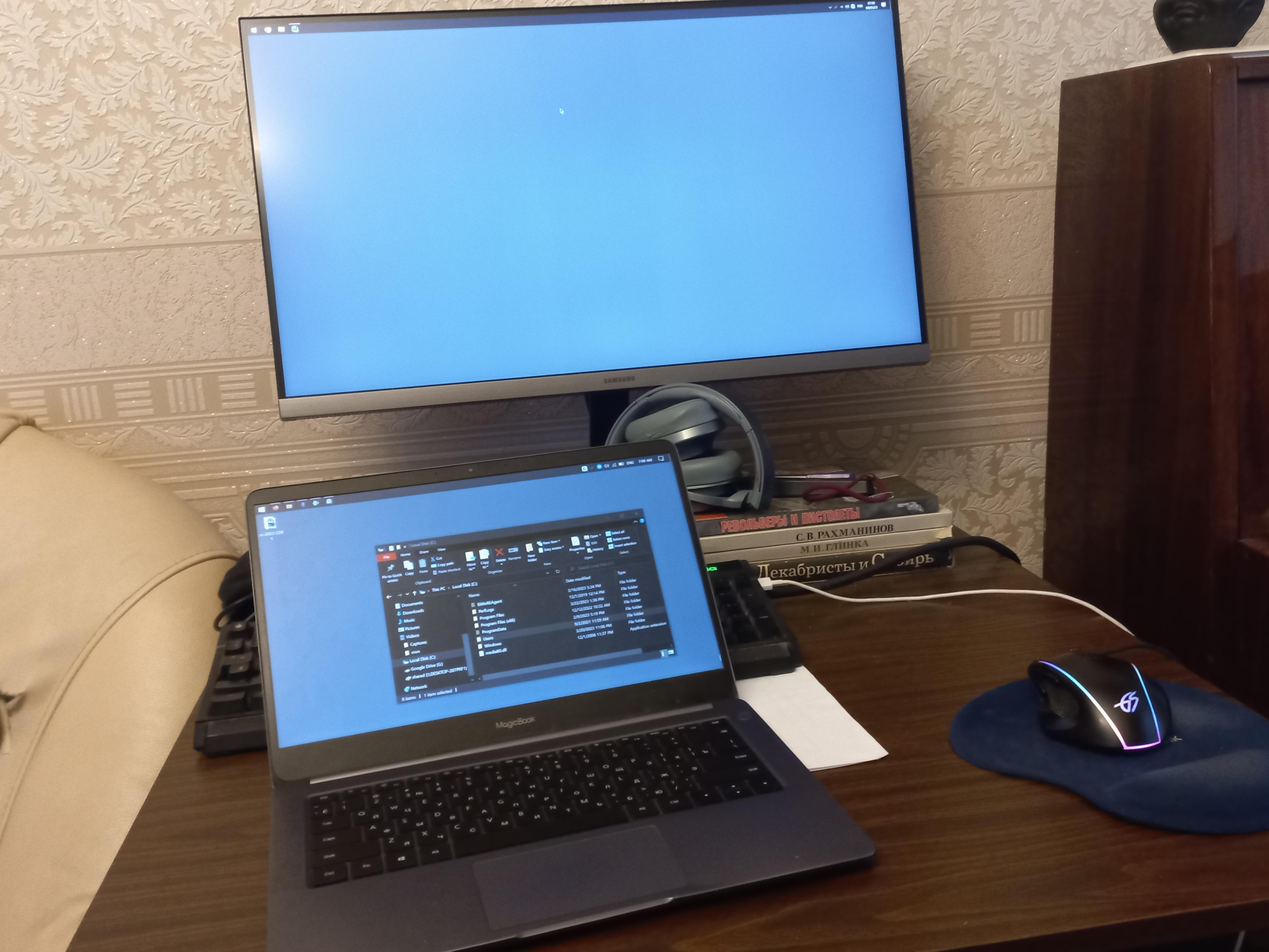monitor: (236, 0, 933, 427), (242, 438, 738, 786)
